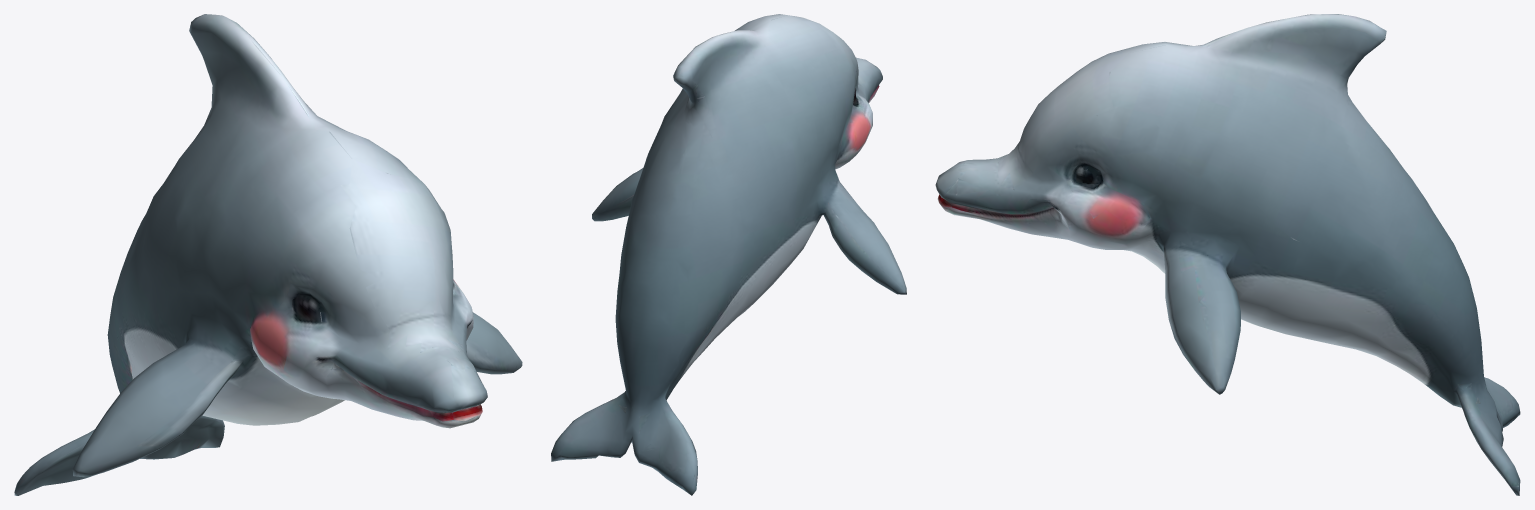
The model's file is dolphin.glb.
3 renders of one model, left to right at view 1: azimuth 30°, elevation 25°; view 2: azimuth 150°, elevation 25°; view 3: azimuth 270°, elevation 25°, orthographic. The views are drawn at different scales.
Visible parts, largest first — view 1: Mesh_0; view 2: Mesh_0; view 3: Mesh_0.
Boxes of the visible parts, x1,y1,x2,y2 form: Mesh_0: [14, 14, 522, 495]; Mesh_0: [551, 14, 906, 495]; Mesh_0: [935, 14, 1520, 495].
Size of the model in its own units: 1.4 by 1.59 by 1.91.
1 material, 1 textured.
